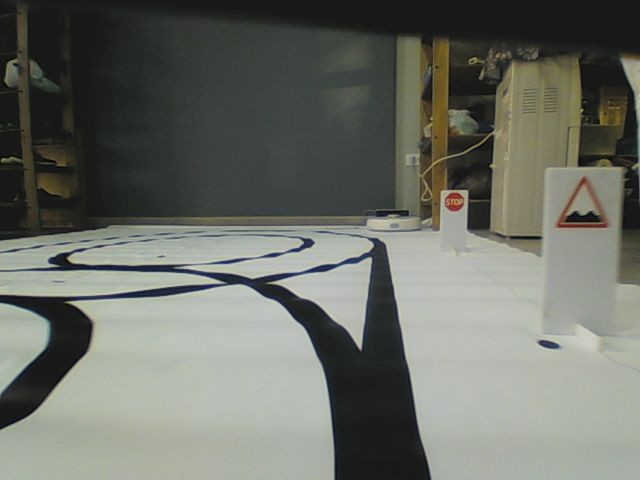Stop: (443, 192, 465, 212)
